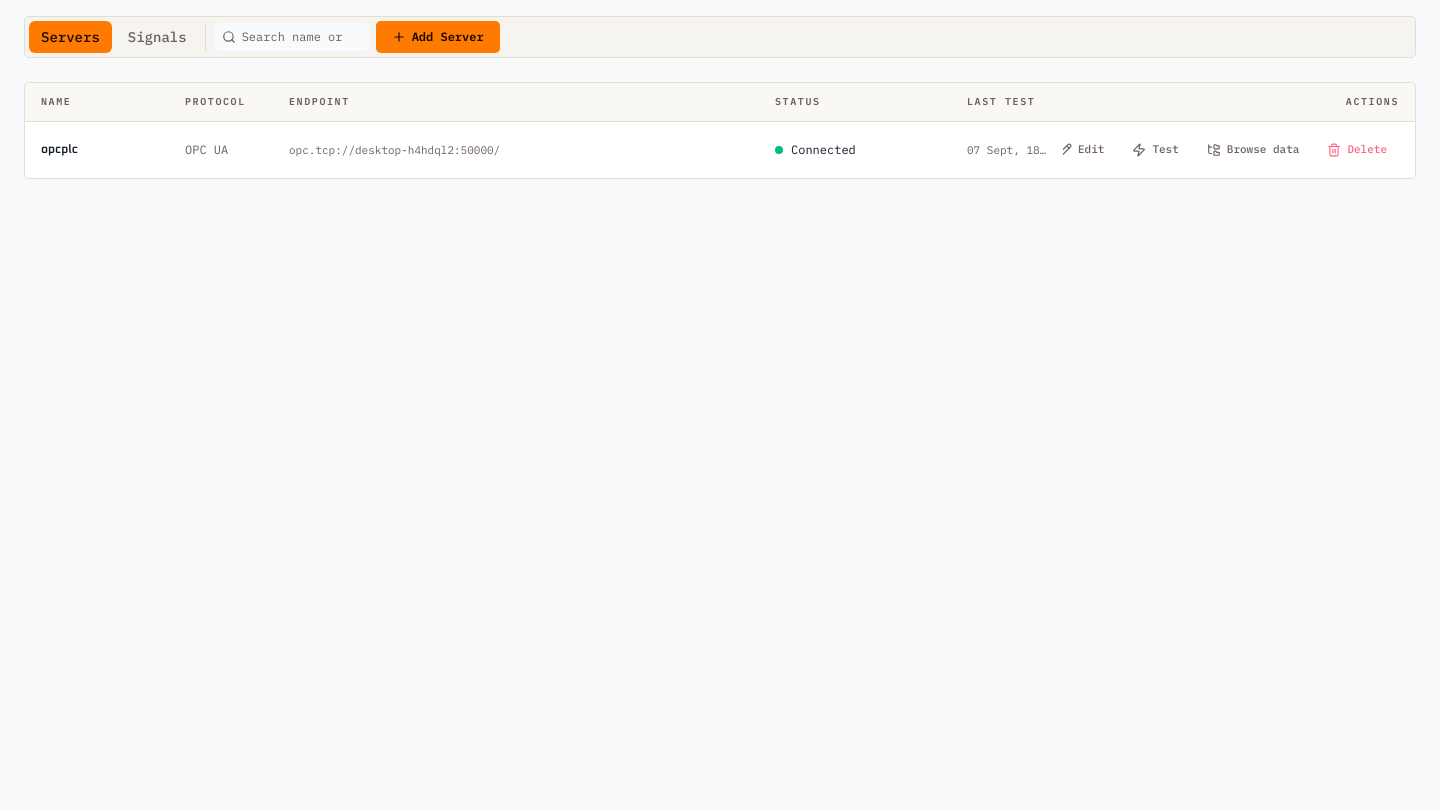
Test: the Browse data drawer › keeps subscribed signals after the terminal is closed and opened again
Expected: the button "opcplc" is shown, [41, 142, 153, 158]
Click the button "Browse data": [1253, 150] box [1195, 134, 1311, 166]
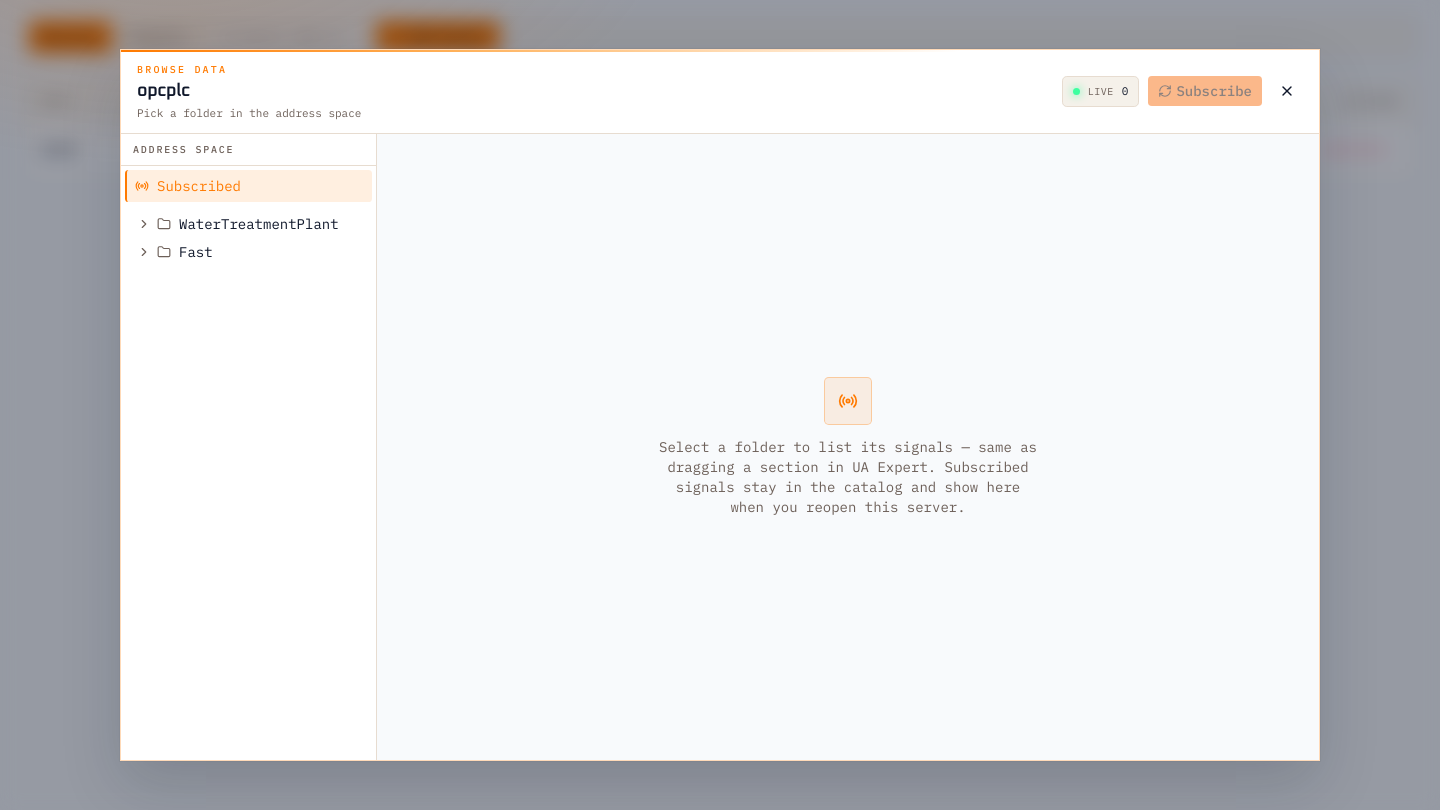
Result: the text "WaterTreatmentPlant" is shown at [179, 214, 339, 234]
Result: the text "Fast" is shown at [179, 242, 213, 262]
Click the button "WaterTreatmentPlant": [262, 224] box [157, 214, 366, 234]
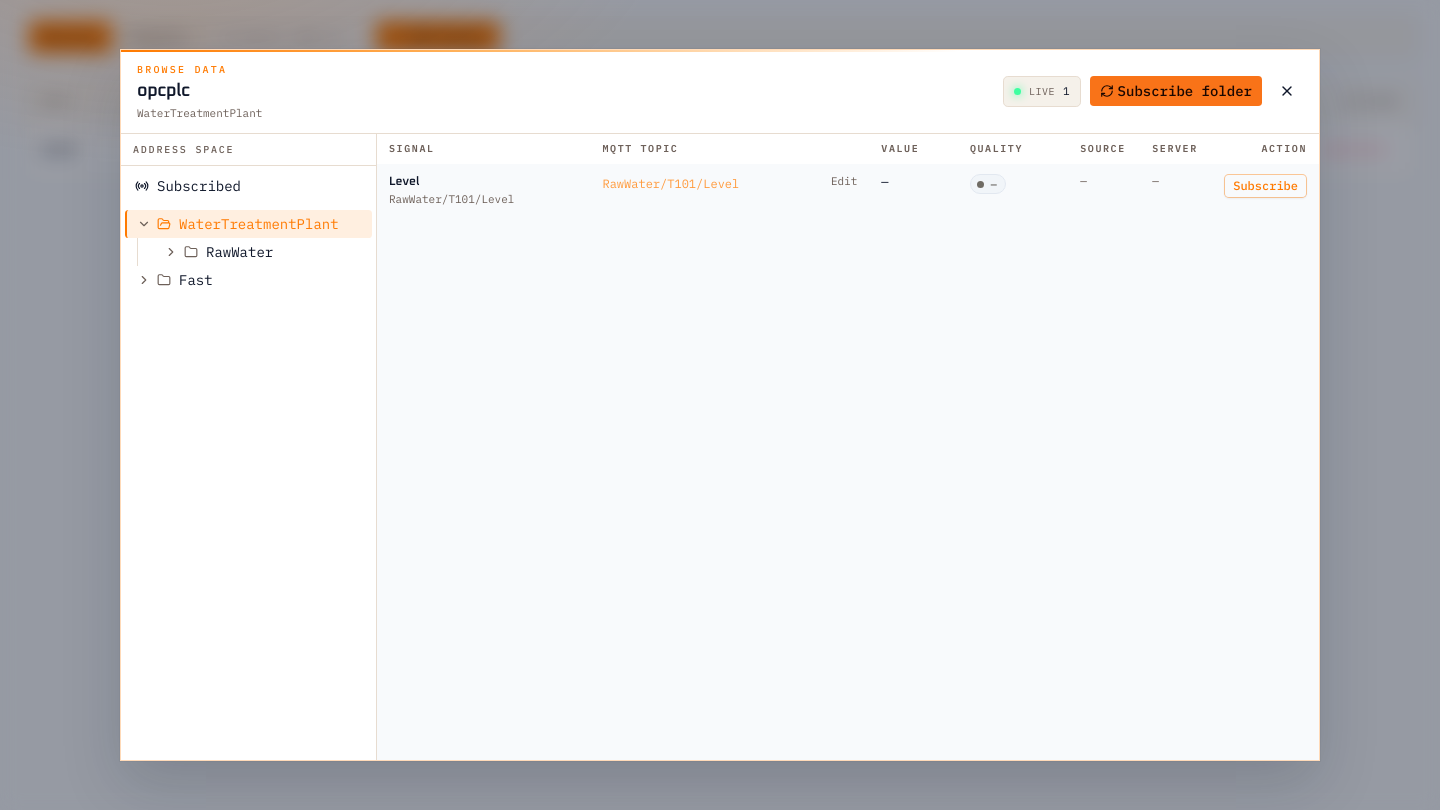
Click the button "Subscribe folder": [1176, 91] box [1089, 75, 1263, 107]
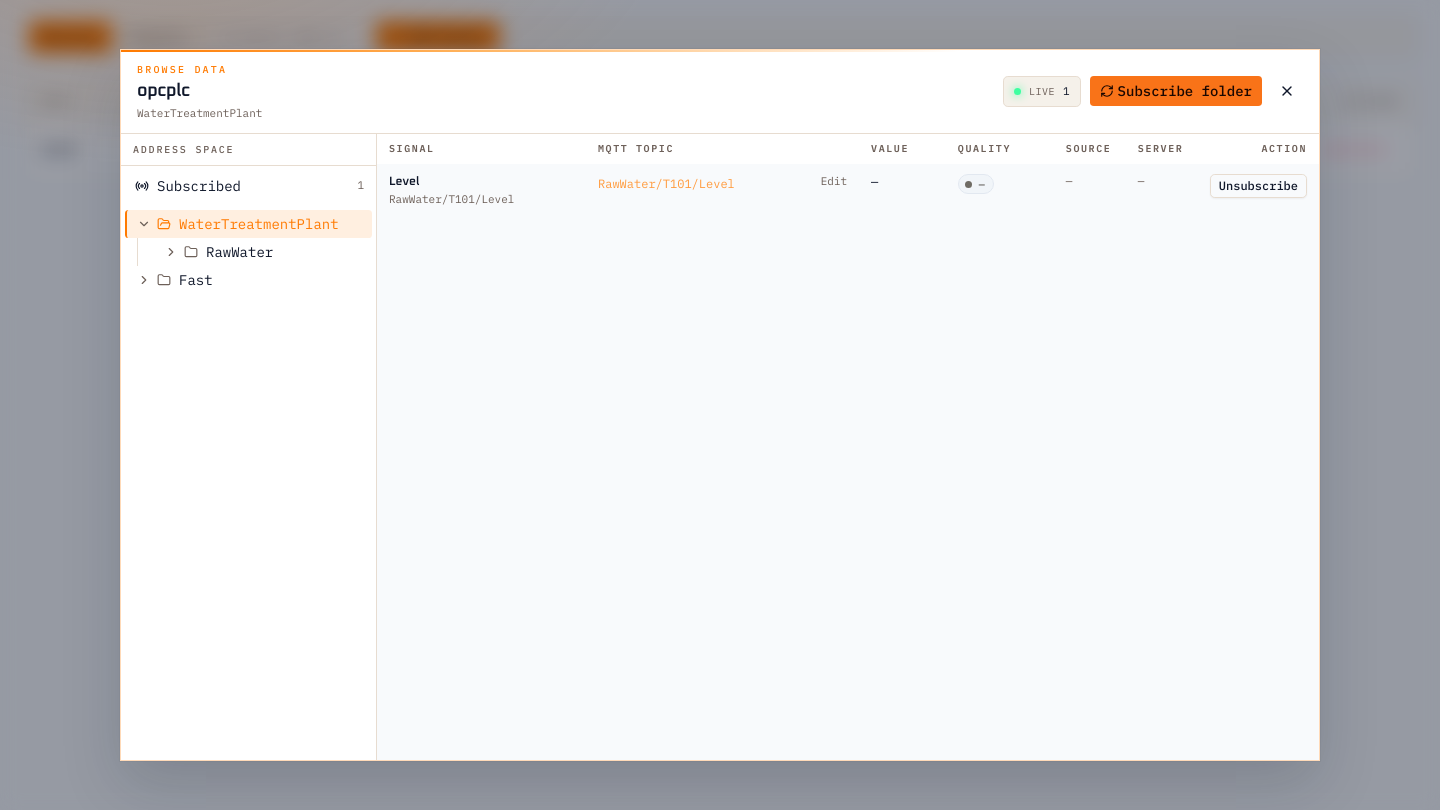
Click the button named "close": [1287, 91] box [1271, 75, 1303, 107]
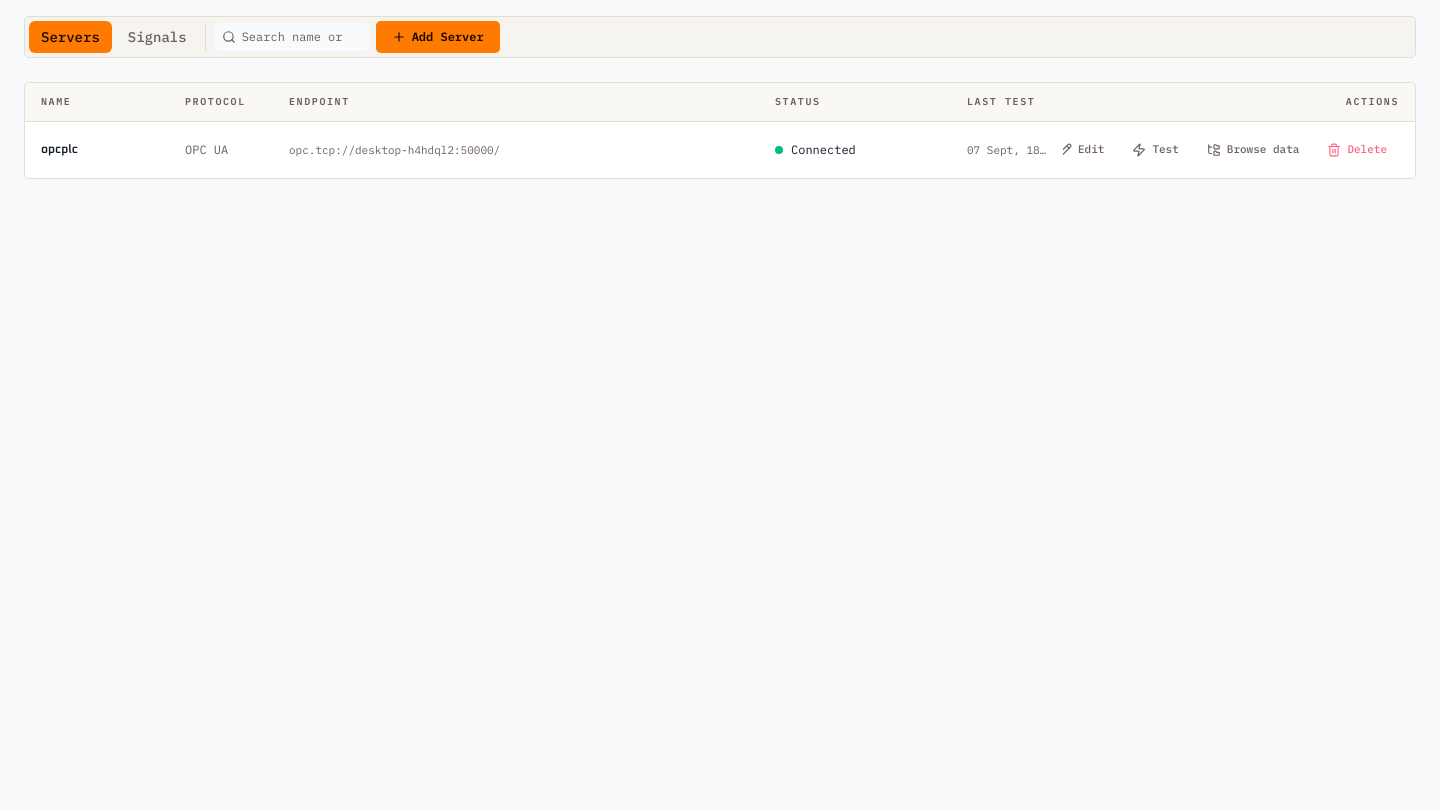
Click the button with aria-label "open opcplc": [97, 150] box [41, 142, 153, 158]
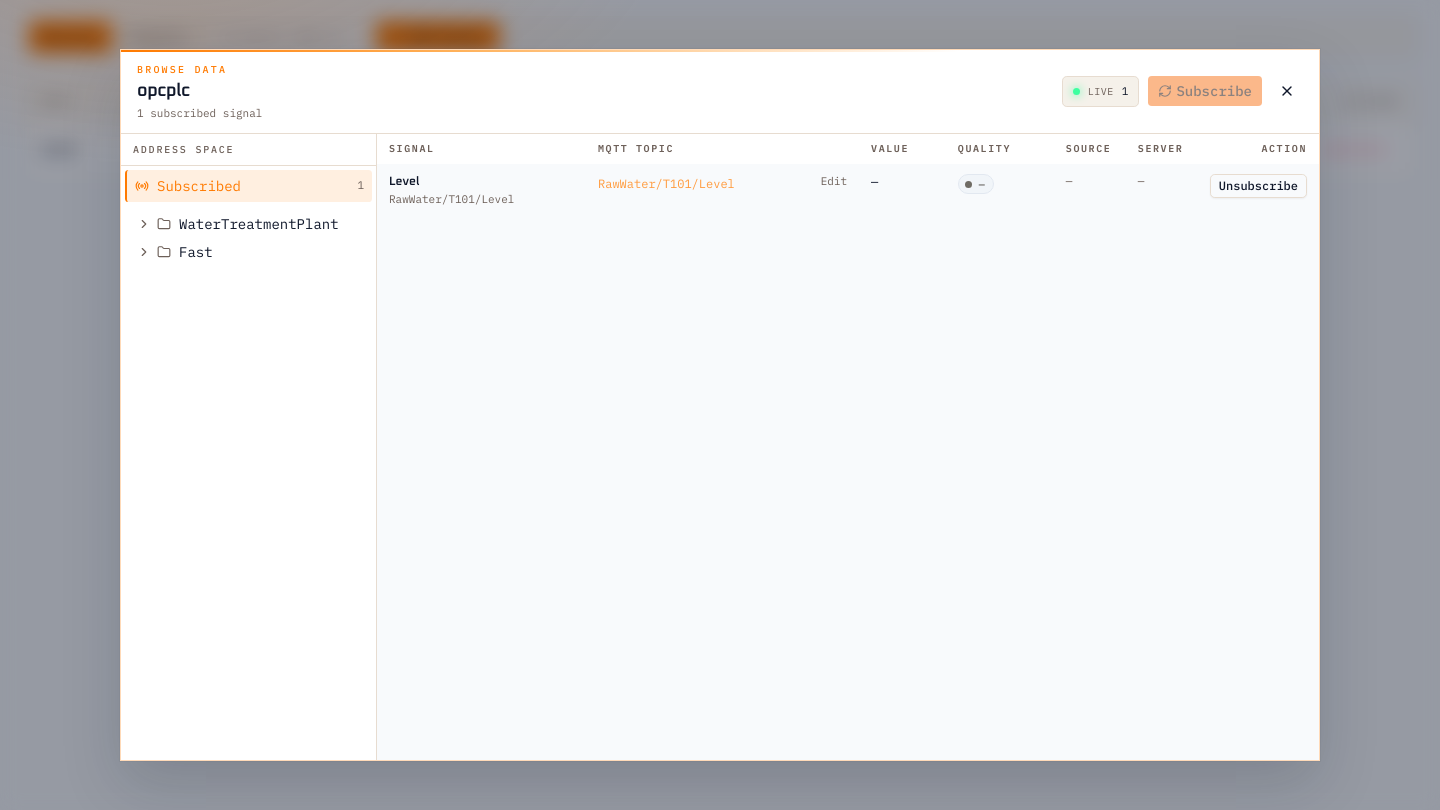
Result: the text "Level" is shown at [389, 176, 419, 188]
Result: the button "Unsubscribe" is shown at [1210, 174, 1307, 198]
